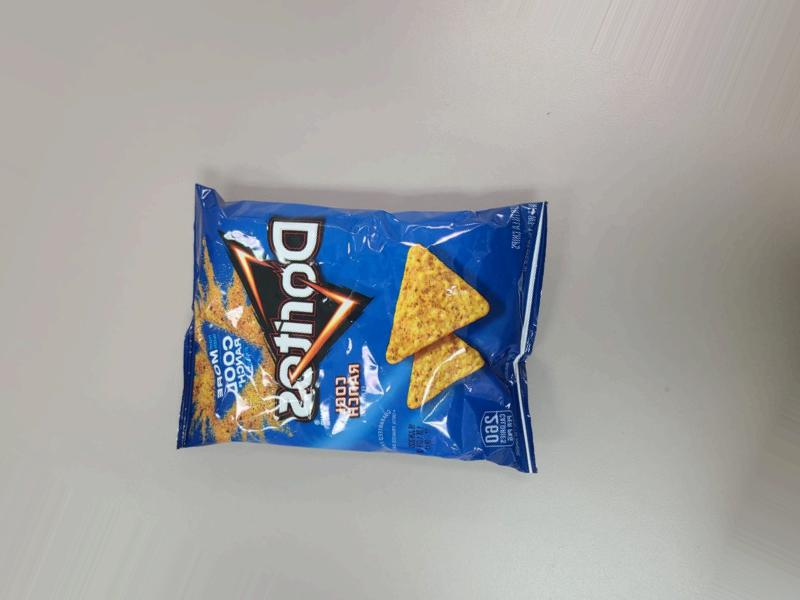doritos: (202, 154, 556, 492)
